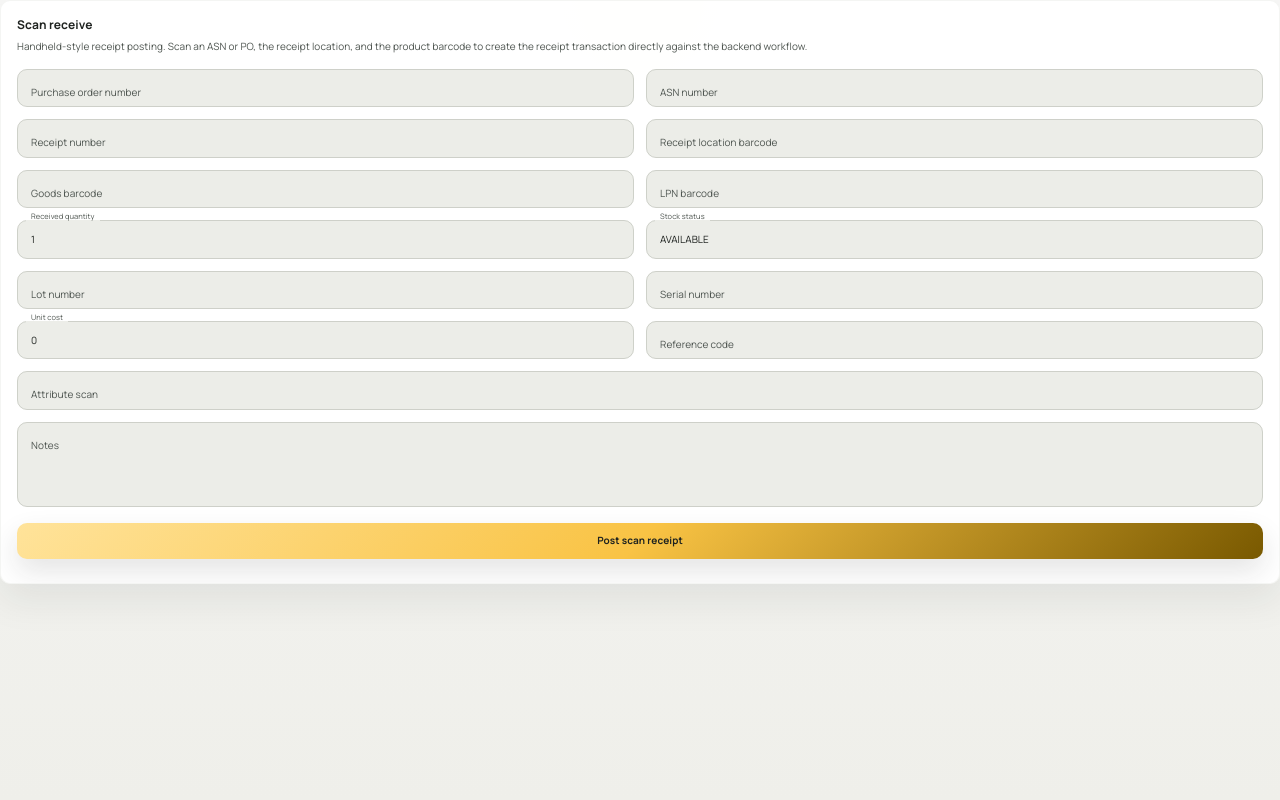
Test case: posts scan receive payloads and shows a success message
Type "PO-2001" into the field labelled "Purchase order number" at (326,88), box [17,69,634,108]
Type "RCV-2001" into the field labelled "Receipt number" at (326,139), box [17,120,634,158]
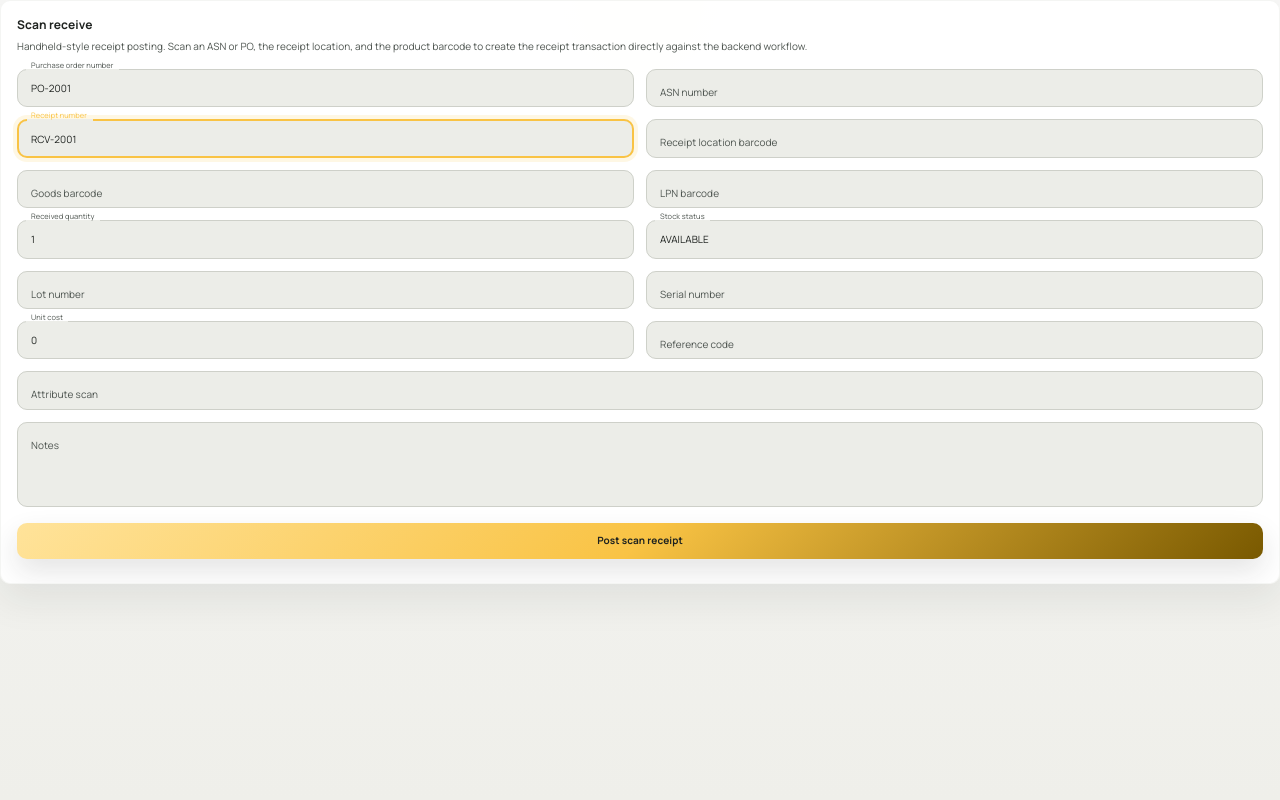
Type "RECV-01" into the field labelled "Receipt location barcode" at (954,139), box [646,120,1263,158]
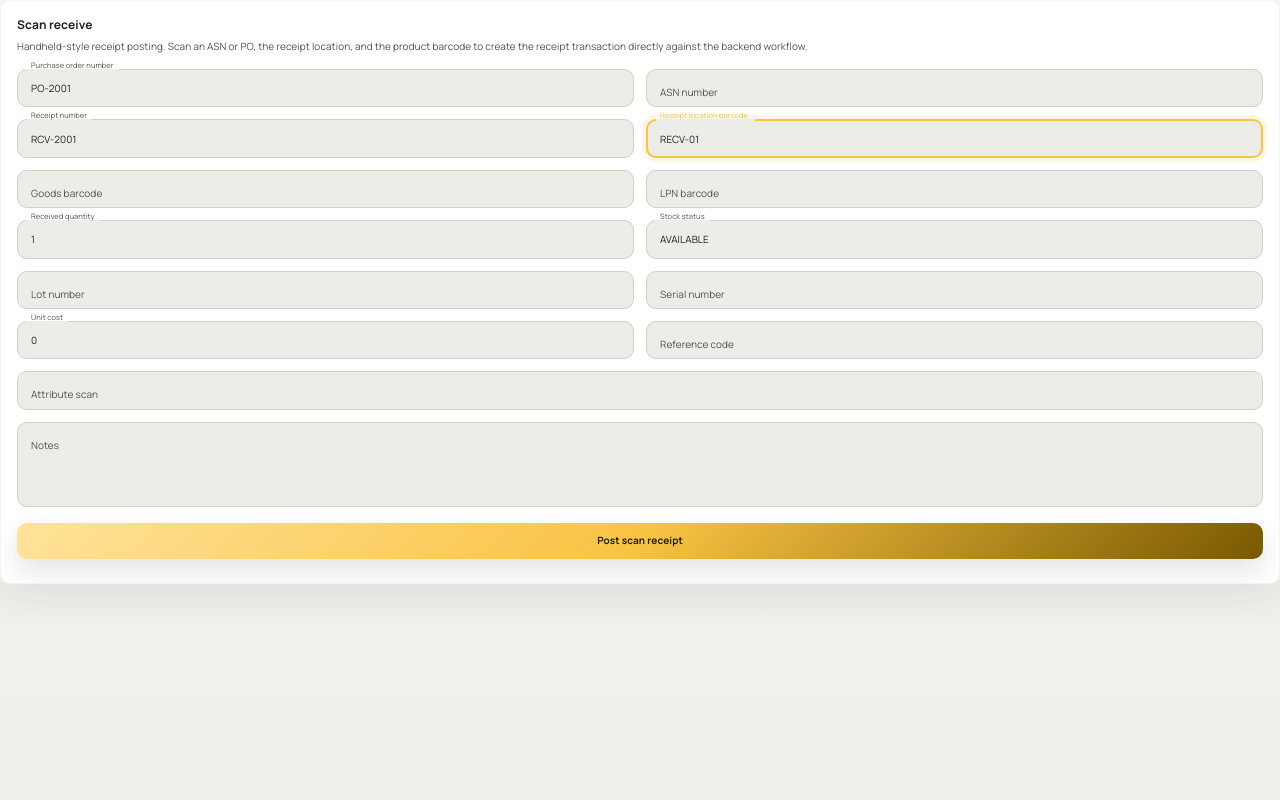
Type "SKU-2001" into the field labelled "Goods barcode" at (326,189), box [17,170,634,208]
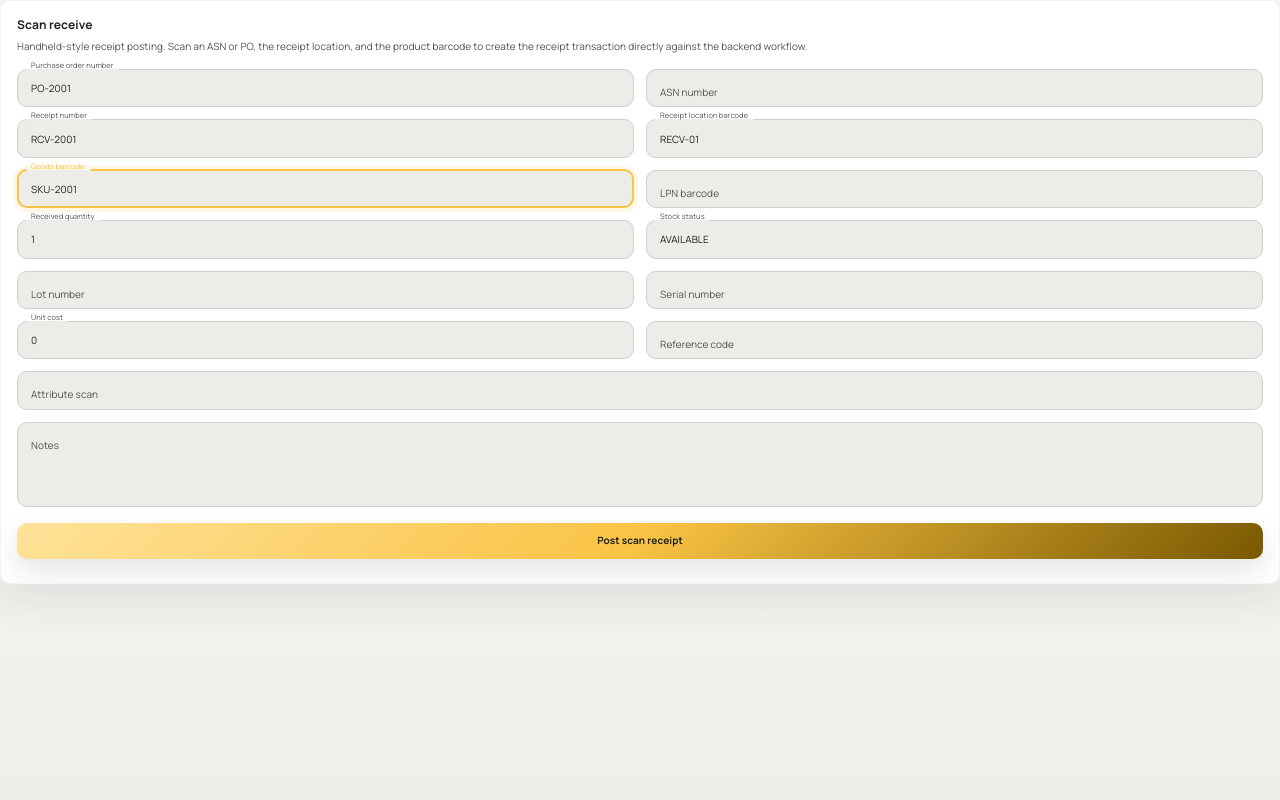
Replace the text in the number field labelled "Received quantity" with "4" at (326,239), box [17,220,634,259]
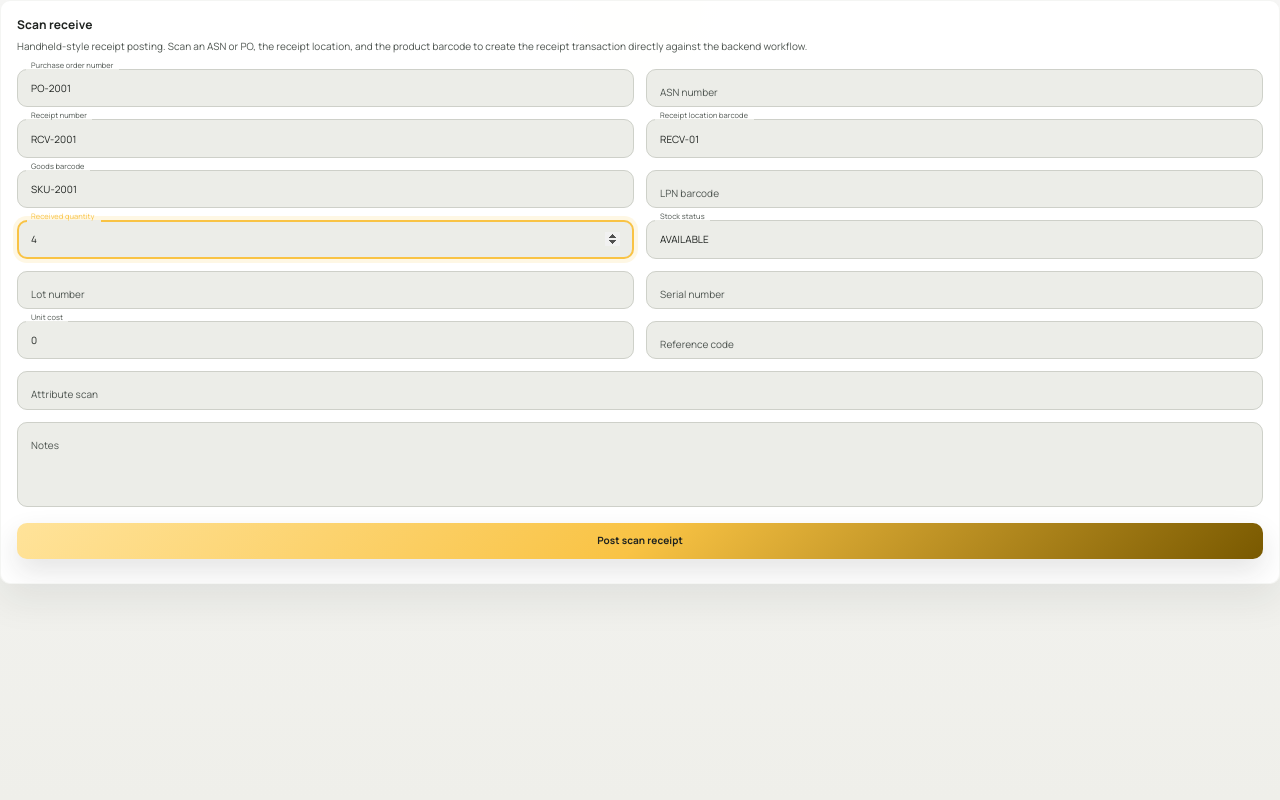
Replace the text in the number field labelled "Unit cost" with "12.5" at (326,340), box [17,321,634,359]
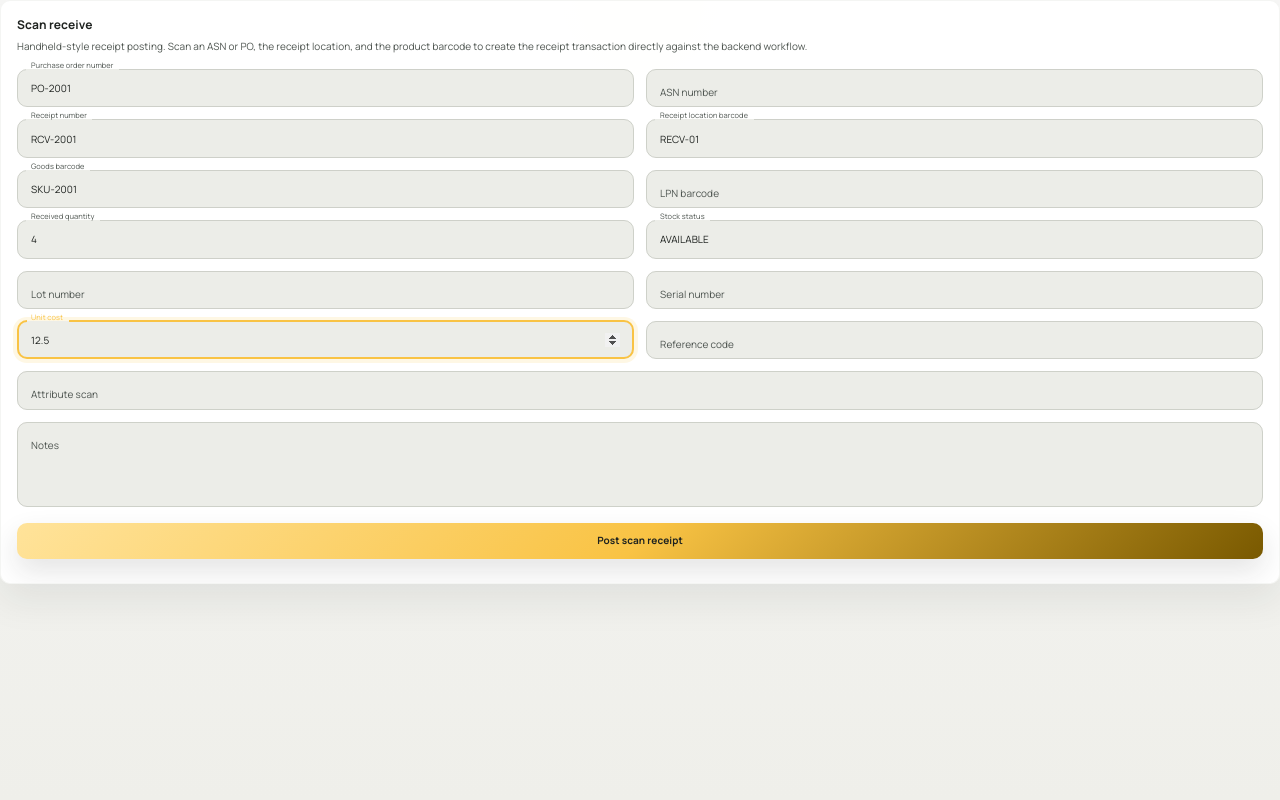
Click the button "Post scan receipt" at (640,541), box [17,523,1263,559]
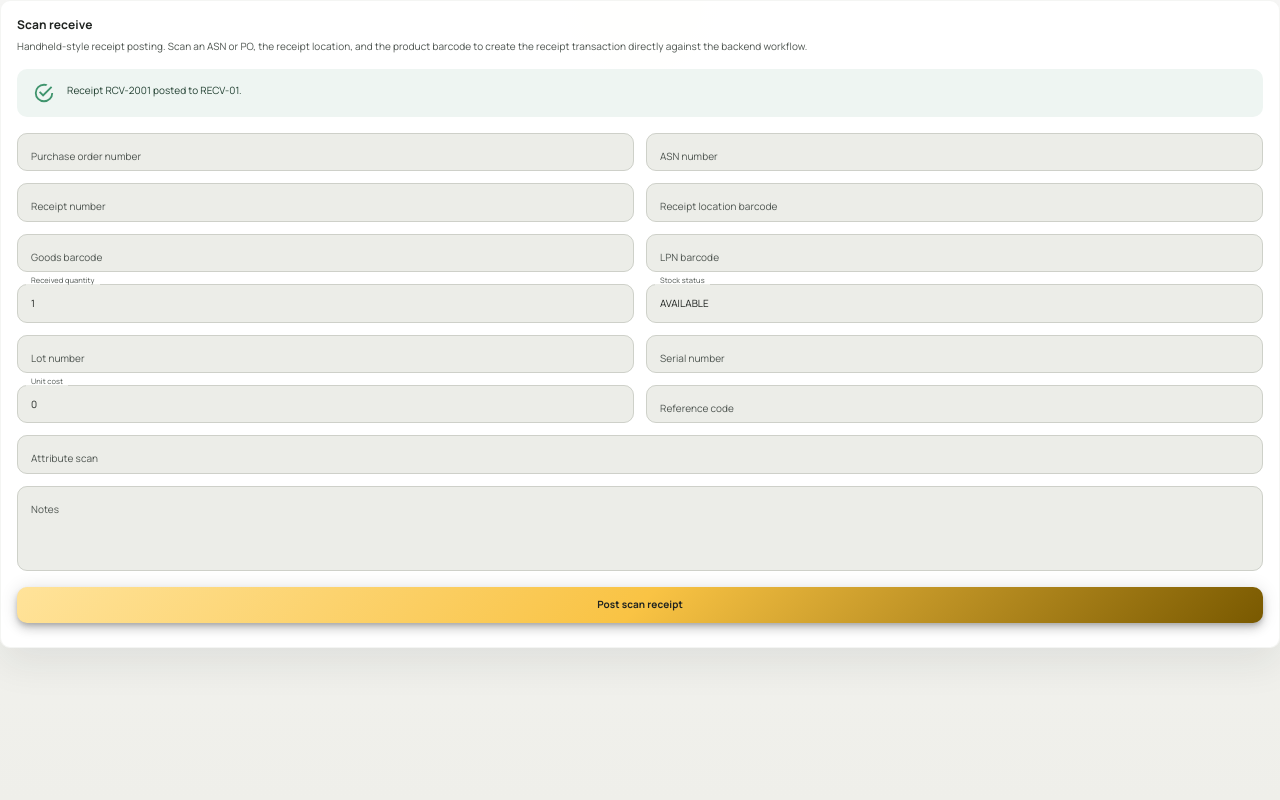
Result: the text "Receipt RCV-2001 posted to RECV-01." is shown at [67,83,242,97]
